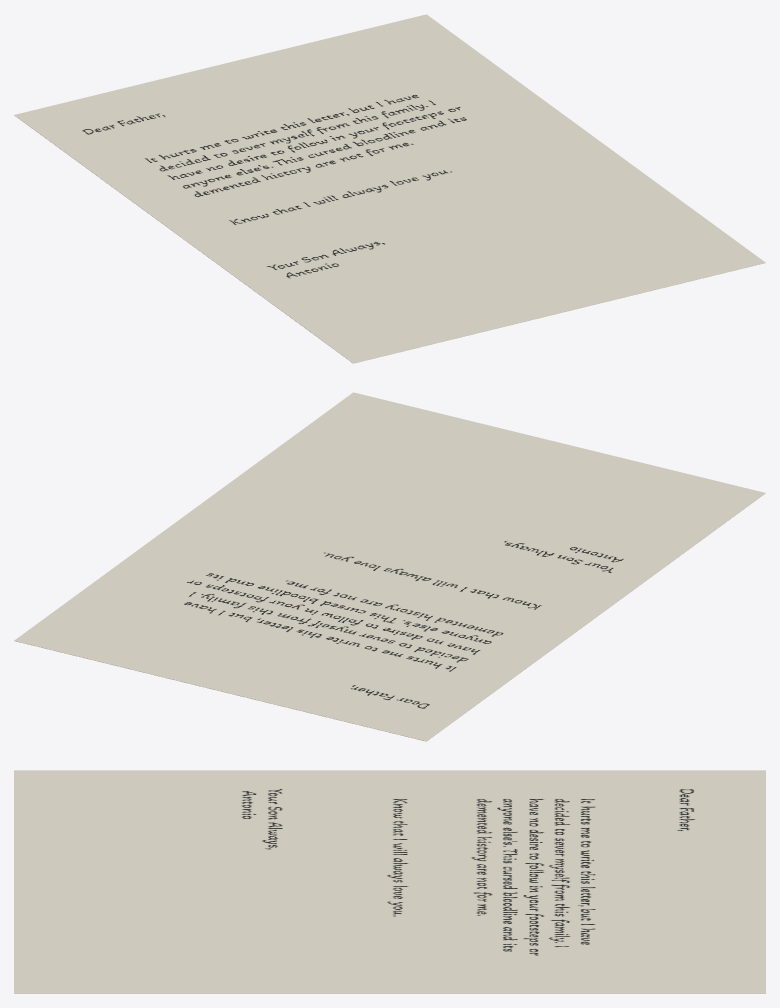
Rendered from To-Father.fbx.
3 renders of one model, top to bottom at view 1: azimuth 30°, elevation 25°; view 2: azimuth 150°, elevation 25°; view 3: azimuth 270°, elevation 25°, orthographic. The views are drawn at different scales.
Visible parts, largest first — view 1: Paper; view 2: Paper; view 3: Paper, THickness.
Boxes of the visible parts, x1,y1,x2,y2 form: Paper: [14, 14, 765, 363]; Paper: [14, 392, 765, 741]; Paper: [14, 770, 765, 993]; THickness: [14, 993, 765, 993].
Bounding box in the file's own units: 51.12 × 0.026 × 72.84.
2 materials, 2 textured.
